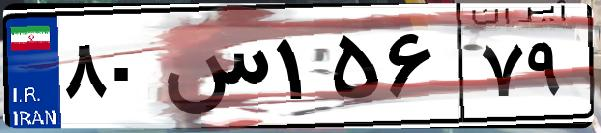0: (110, 28, 158, 98)
1: (270, 28, 330, 110)
5: (330, 28, 385, 110)
6: (385, 28, 445, 110)
7: (475, 38, 525, 113)
8: (57, 26, 110, 100)
9: (525, 38, 570, 115)
س: (158, 20, 270, 120)
